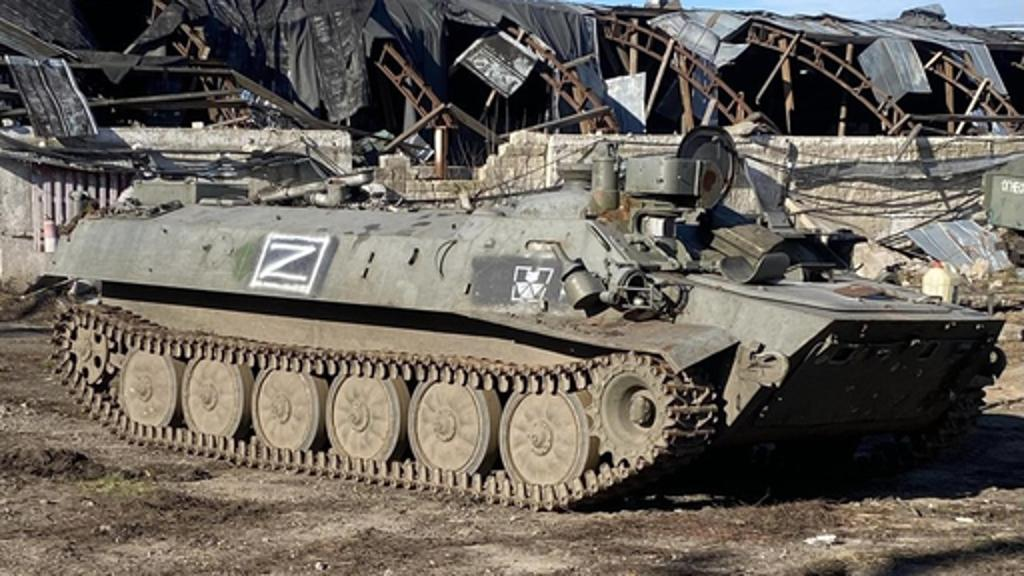APC-IFV: (44, 124, 1006, 484)
